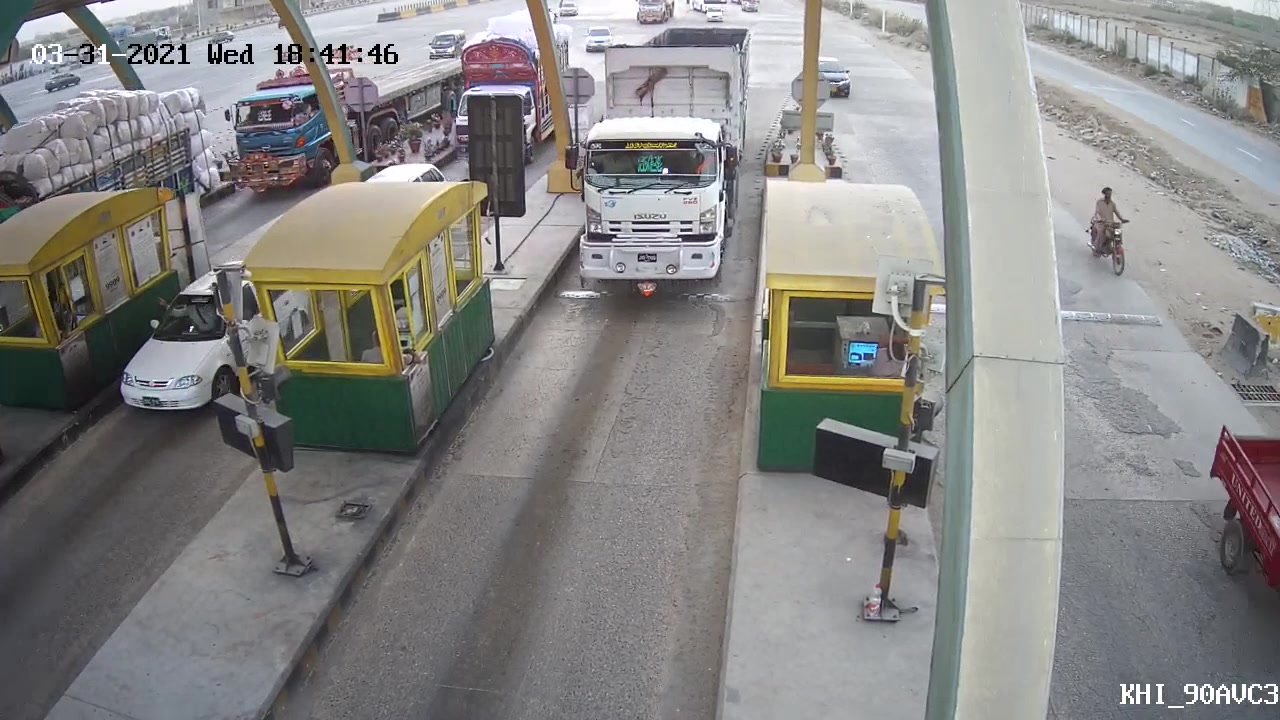F6: (562, 17, 762, 303)
